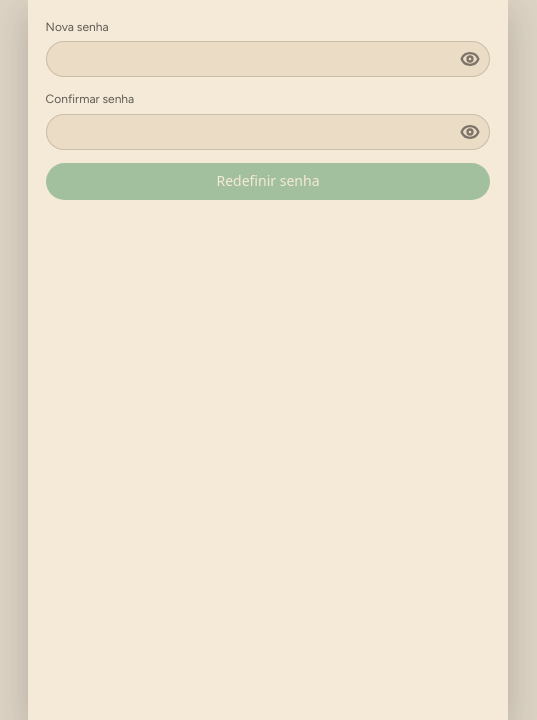
Test: a rejected password update shows an error message
Type "123456" into the password field labelled "Nova senha".
click(268, 59); type("123456")  # box 46,41 -> 490,77
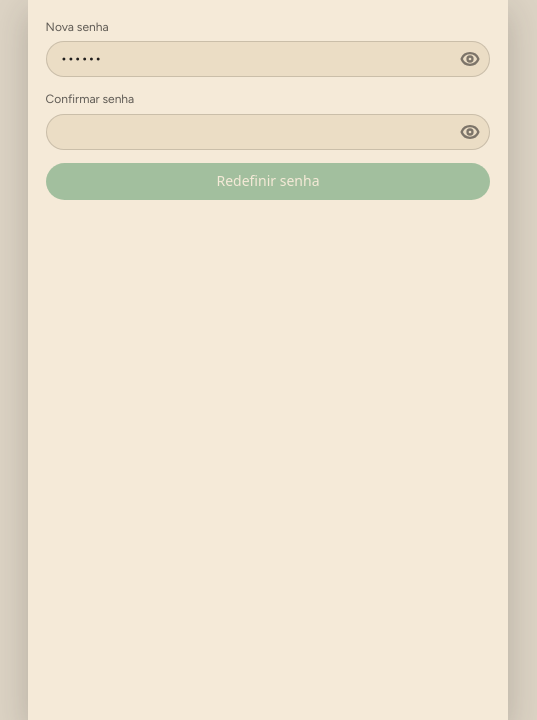
Type "123456" into the password field labelled "Confirmar senha".
click(268, 132); type("123456")  # box 46,114 -> 490,150
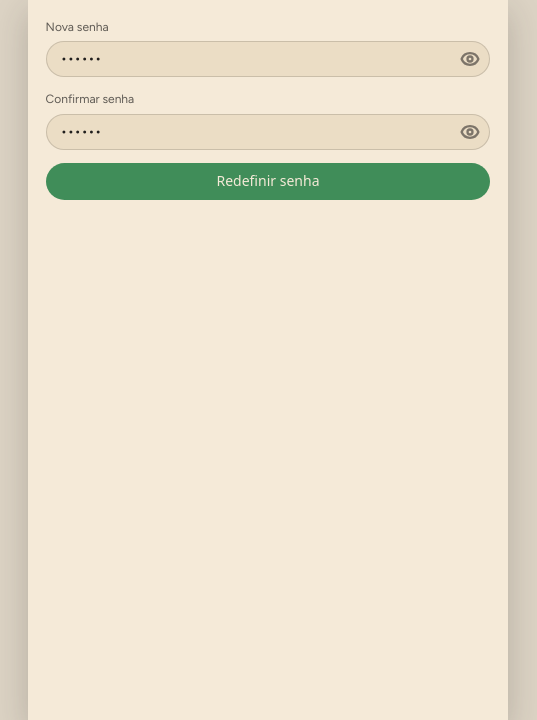
Click the button "Redefinir senha".
click(268, 181)  # box 46,163 -> 490,200
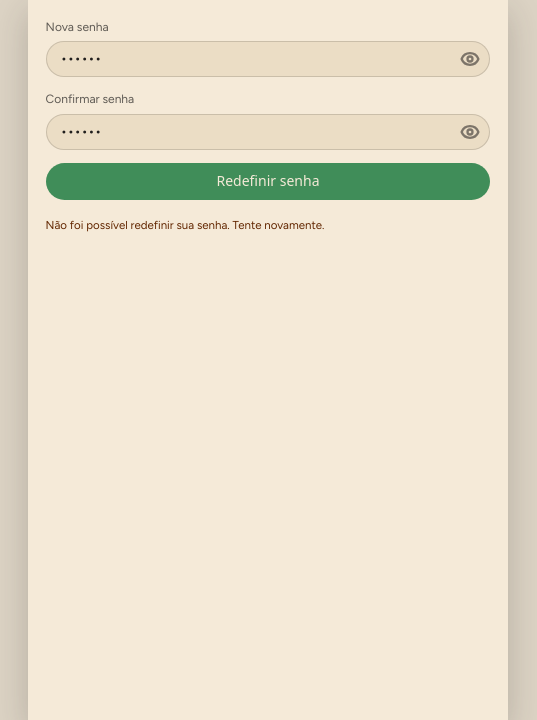
Expected: the text "Não foi possível redefinir sua senha. Tente novamente." is shown, 46,218 -> 324,232
